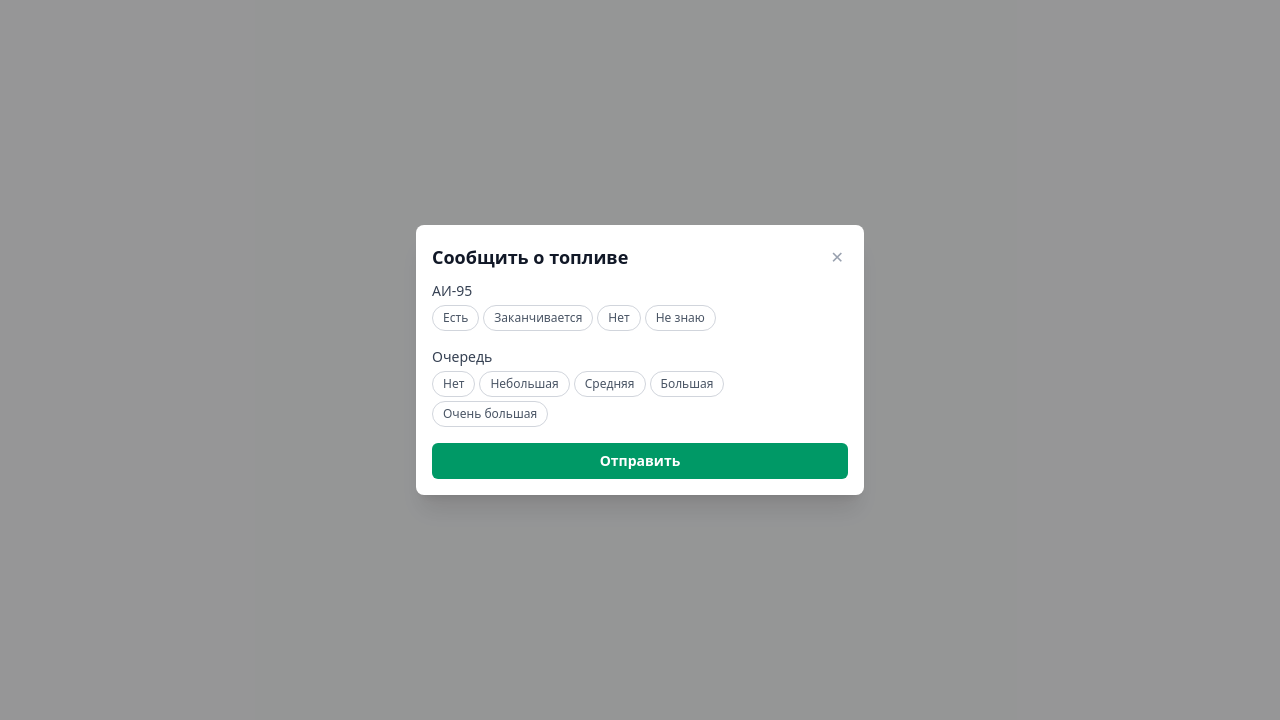
Test: ReportForm (R39) › сеть недоступна — отчёт уходит в офлайн-очередь, а не теряется (R39.2)
Check: the text "АИ-95" is shown, box [432, 281, 472, 300]
Click the button "Нет" below "АИ-95": (619, 318) [597, 305, 641, 331]
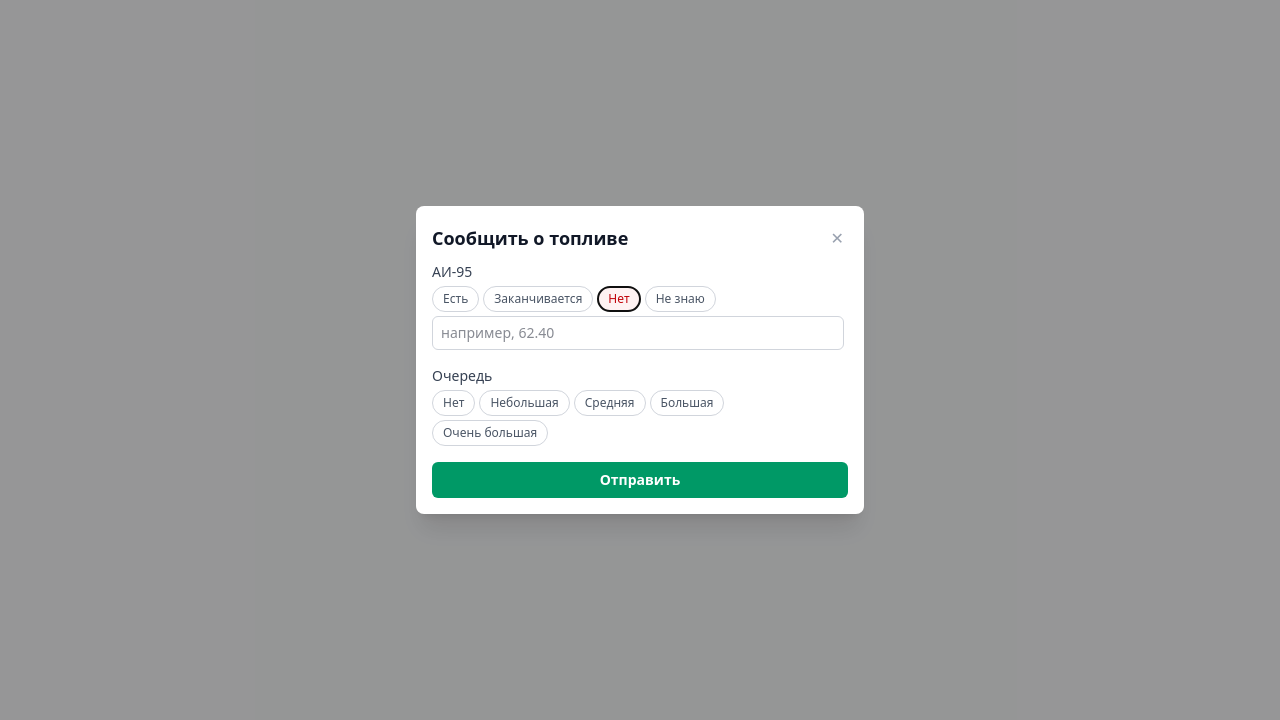
Click the button "Отправить": (640, 480) [432, 462, 848, 498]
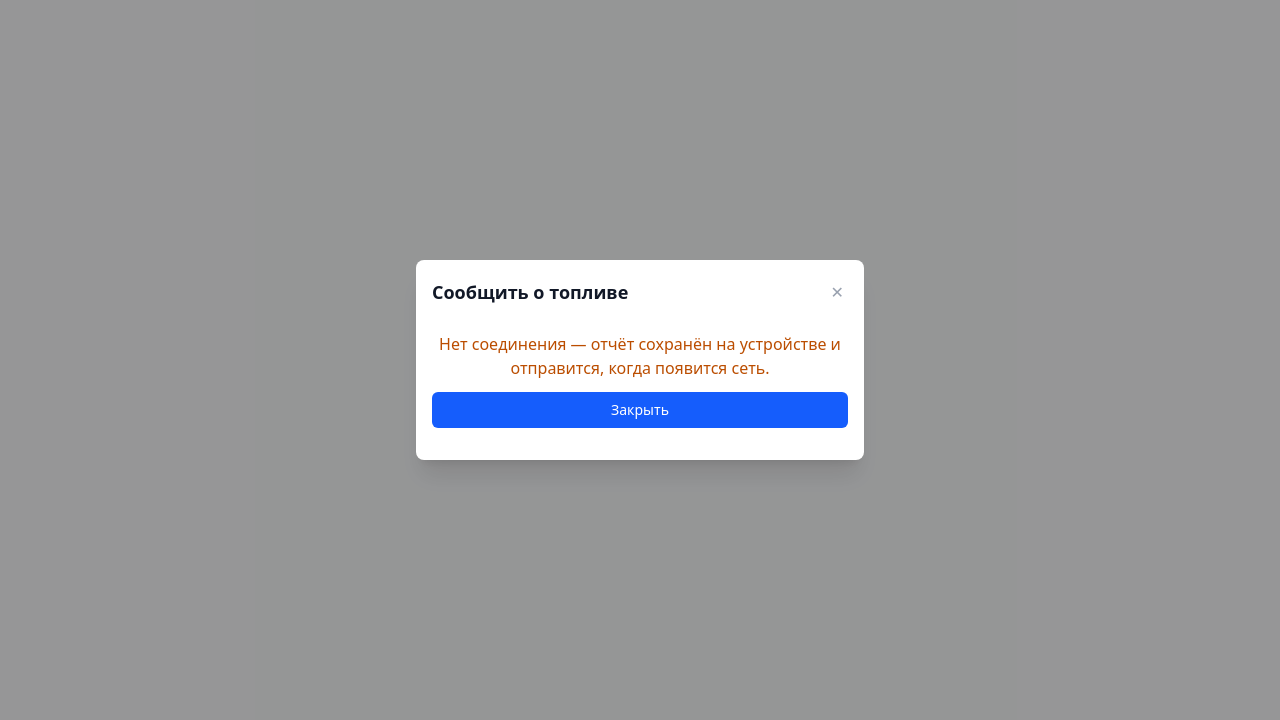
Check: the text "Нет соединения" is shown, box [439, 333, 841, 379]
